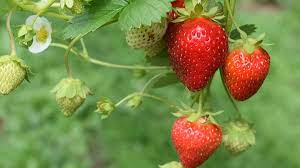ripe: (167, 17, 231, 96), (215, 37, 273, 107), (169, 111, 225, 168)
unripe: (117, 6, 172, 54), (221, 118, 256, 158), (54, 80, 89, 118), (1, 52, 26, 97)
